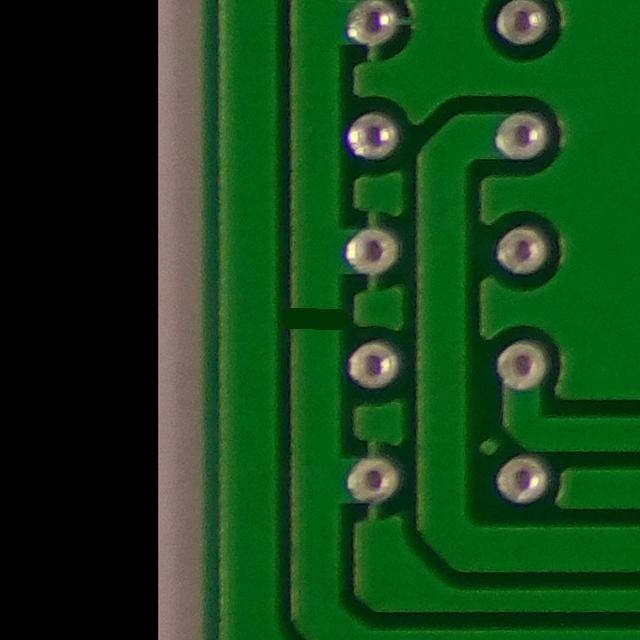open_circuit: (284, 292, 355, 348)
